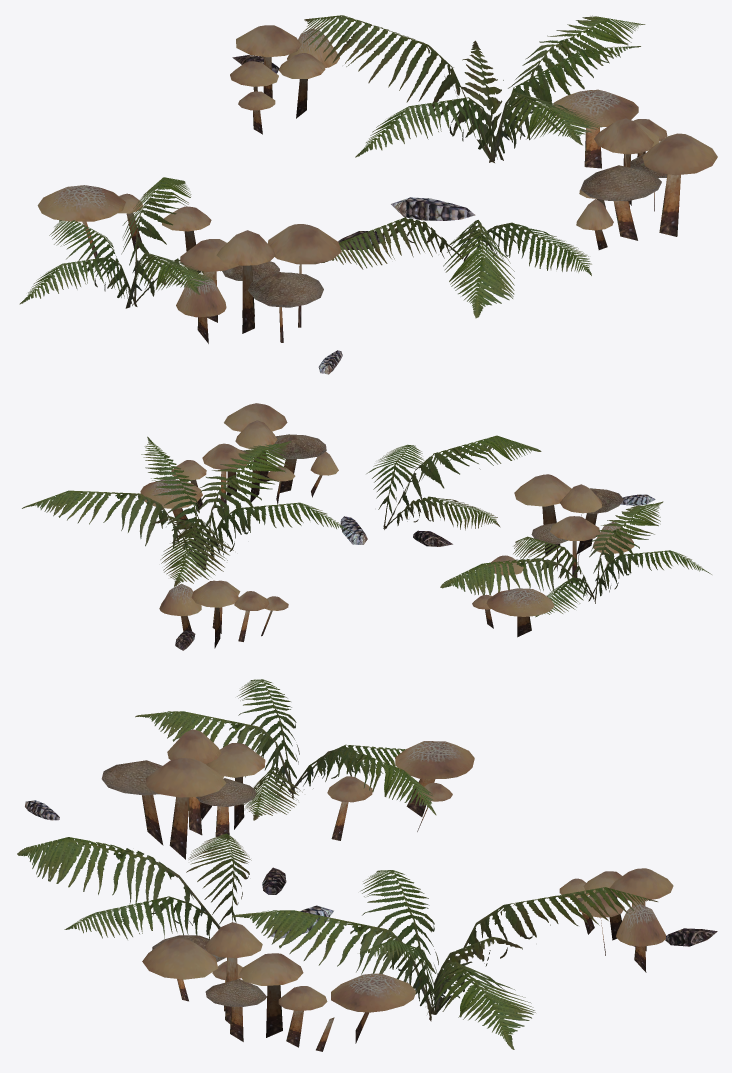
Rendered from prop_log_aa.FBX.
The picture shows the model from 3 angles, top to bottom: view 1: azimuth 30°, elevation 25°; view 2: azimuth 150°, elevation 25°; view 3: azimuth 270°, elevation 25°; orthographic projection. The views are drawn at different scales.
Visible parts, largest first — view 1: prop_log_aa; view 2: prop_log_aa; view 3: prop_log_aa.
Boxes of the visible parts, x1,y1,x2,y2 form: prop_log_aa: (19,15,717,374); prop_log_aa: (22,403,711,650); prop_log_aa: (17,679,717,1051).
Size of the model in its own units: 2.68 by 2.13 by 0.3931.
Materials: 1 (1 with a texture image).
